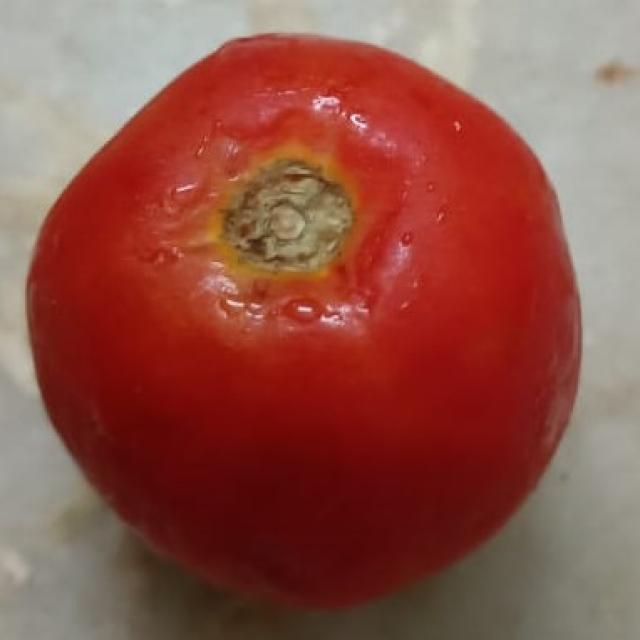ripe tomato: (28, 16, 596, 608)
